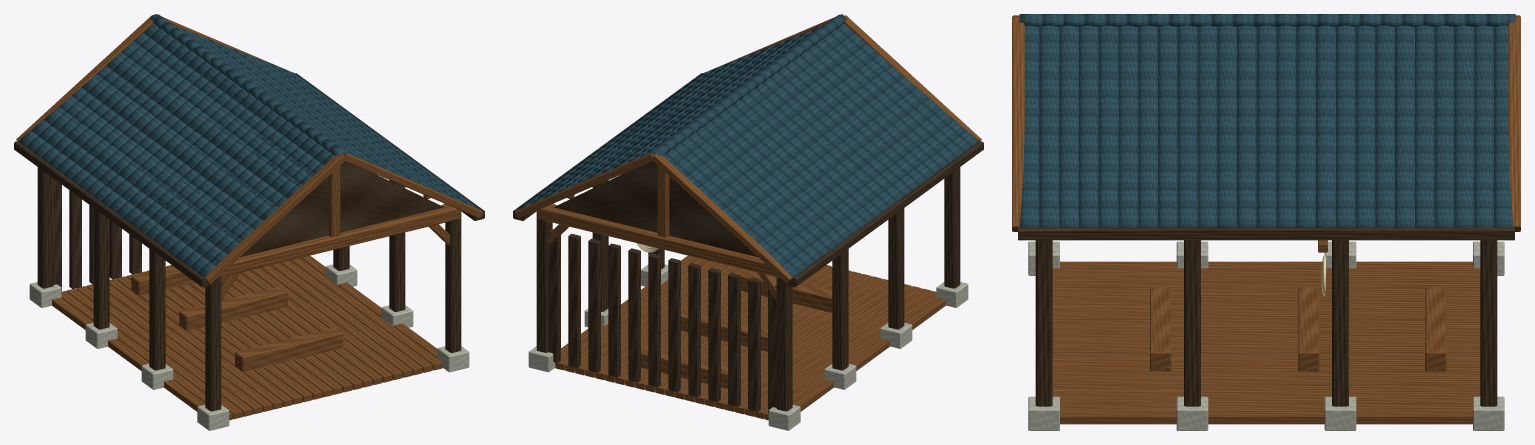
The model's file is boatshed_open.glb.
3 views of the same model, side by side, from view 1: azimuth 30°, elevation 25°; view 2: azimuth 150°, elevation 25°; view 3: azimuth 270°, elevation 25° (orthographic). The views are drawn at different scales.
Visible parts, largest first — view 1: boatshed_open_Joinery.001, boatshed_open_Roof.001, boatshed_open_Structure.001; view 2: boatshed_open_Joinery.001, boatshed_open_Roof.001, boatshed_open_Structure.001; view 3: boatshed_open_Roof.001, boatshed_open_Joinery.001, boatshed_open_Structure.001.
Boxes of the visible parts, x1,y1,x2,y2 form: boatshed_open_Joinery.001: (14, 14, 484, 420); boatshed_open_Roof.001: (18, 14, 480, 277); boatshed_open_Structure.001: (29, 264, 469, 430); boatshed_open_Joinery.001: (513, 14, 983, 420); boatshed_open_Roof.001: (517, 14, 979, 277); boatshed_open_Structure.001: (528, 264, 968, 430); boatshed_open_Roof.001: (1019, 14, 1515, 227); boatshed_open_Joinery.001: (1012, 15, 1520, 424); boatshed_open_Structure.001: (1028, 241, 1504, 430).
Size of the model in its own units: 6.14 by 5.2 by 7.21.
1 material, 1 textured.
